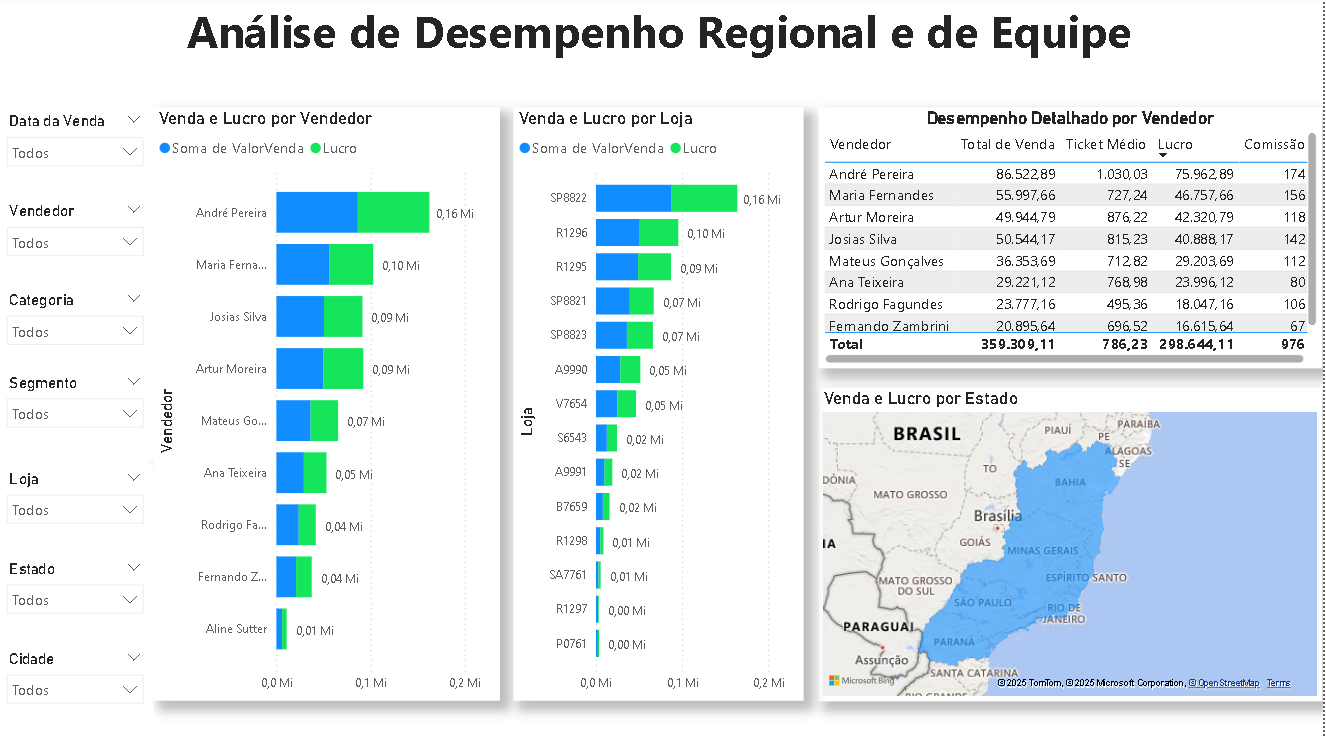

Layout of this report page (visuals, bound fields, positions):
{"tool":"powerbi","page":{"name":"Análise de Desempenho Regional e de Equipe","canvas":[1280,720],"ordinal":1},"visuals":[{"type":"filledMap","title":"Venda e Lucro por Estado","fields":{"Category":["Vendas.Estado"]},"box":[793.8,377.6,486.2,302.8],"z":0},{"type":"barChart","title":"Venda e Lucro por Vendedor","fields":{"Y":["Sum(Vendas.ValorVenda)","Vendas.Lucro"],"Category":["Vendas.Vendedor"]},"box":[152,107.4,334.2,573.1],"z":1000},{"type":"barChart","title":"Venda e Lucro por Loja","fields":{"Y":["Sum(Vendas.ValorVenda)","Vendas.Lucro"],"Category":["Vendas.Loja"]},"box":[499.5,107.4,279.9,573.1],"z":2000},{"type":"tableEx","title":"Desempenho Detalhado por Vendedor","fields":{"Values":["Vendas.Vendedor","Sum(Vendas.ValorVenda)","Vendas.TicketMedio","Vendas.Lucro","Sum(Vendas.Comissão (Percentual))"]},"box":[793.8,107.4,486.2,252.1],"z":3000},{"type":"actionButton","box":[0,0,100,40],"z":4000},{"type":"slicer","title":"Data Vendas","fields":{"Values":["Vendas.Data Venda","Vendas.Data Venda.Variation.Hierarquia de datas.Ano","Vendas.Data Venda.Variation.Hierarquia de datas.Mês"]},"box":[0,107.4,152,87],"z":5000},{"type":"slicer","fields":{"Values":["Vendas.Vendedor"]},"box":[0,194.2,152,87],"z":6000},{"type":"slicer","fields":{"Values":["Vendas.Categoria"]},"box":[0,279.9,152,87],"z":7000},{"type":"slicer","fields":{"Values":["Vendas.Segmento"]},"box":[0,359.5,152,87],"z":8000},{"type":"slicer","fields":{"Values":["Vendas.Loja"]},"box":[0,452.4,152,86.9],"z":9000},{"type":"slicer","fields":{"Values":["Vendas.Estado"]},"box":[0,539.3,152,86.9],"z":10000},{"type":"slicer","fields":{"Values":["Vendas.Cidade"]},"box":[0,626.1,152,82],"z":11000},{"type":"textbox","box":[0,0,1280,78.4],"z":12000}]}

Visuals, with their boxes in screenshot pixels (x1, y1, x2, y2), scaled from the page's 1280x720 canvas onto the 1326x736 screenshot:
"Venda e Lucro por Estado" filledMap: <box>822,386,1325,696</box>
"Venda e Lucro por Vendedor" barChart: <box>157,110,504,696</box>
"Venda e Lucro por Loja" barChart: <box>517,110,807,696</box>
"Desempenho Detalhado por Vendedor" tableEx: <box>822,110,1325,367</box>
actionButton: <box>0,0,104,41</box>
"Data Vendas" slicer: <box>0,110,157,199</box>
slicer - Vendas.Vendedor: <box>0,199,157,287</box>
slicer - Vendas.Categoria: <box>0,286,157,375</box>
slicer - Vendas.Segmento: <box>0,367,157,456</box>
slicer - Vendas.Loja: <box>0,462,157,551</box>
slicer - Vendas.Estado: <box>0,551,157,640</box>
slicer - Vendas.Cidade: <box>0,640,157,724</box>
textbox: <box>0,0,1325,80</box>
